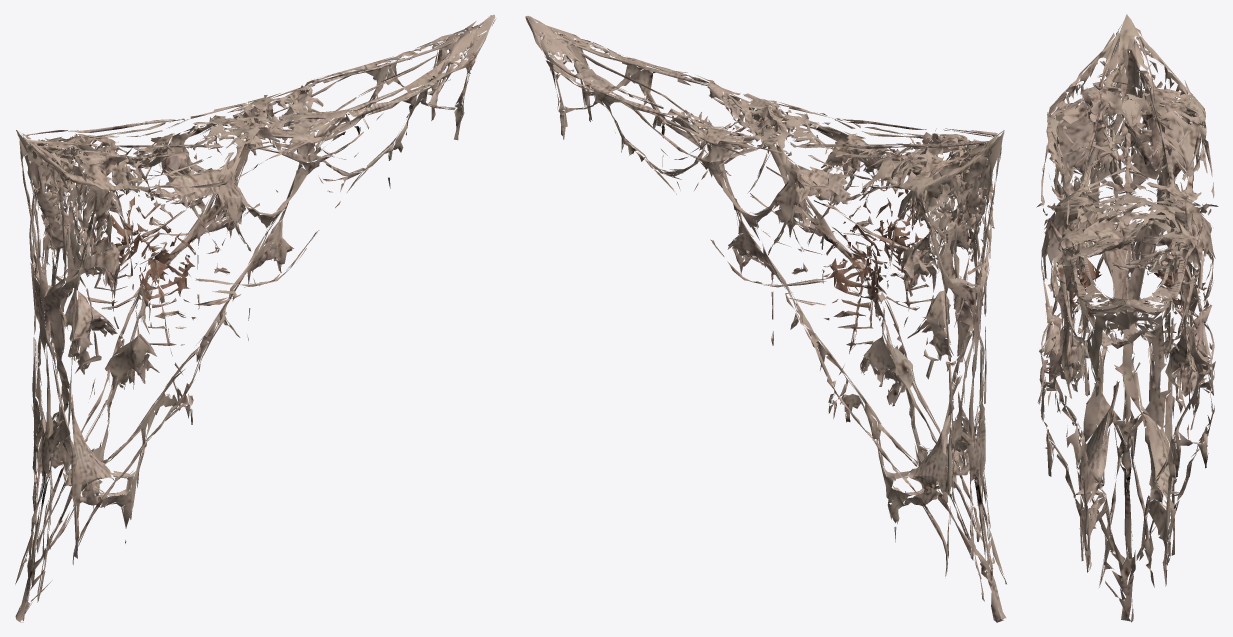
File: dec_corner_cobweb.glb
The picture shows the model from 3 angles, left to right: view 1: azimuth 30°, elevation 25°; view 2: azimuth 150°, elevation 25°; view 3: azimuth 270°, elevation 25°; orthographic projection. The views are drawn at different scales.
Visible parts, largest first — view 1: MetricPlacement; view 2: MetricPlacement; view 3: MetricPlacement.
Boxes of the visible parts, box(x1,y1,x2,y2) form: MetricPlacement: box(15, 14, 496, 622); MetricPlacement: box(525, 16, 1006, 622); MetricPlacement: box(1036, 14, 1218, 622).
Size of the model in its own units: 1.02 by 1 by 0.2742.
1 material, 1 textured.
